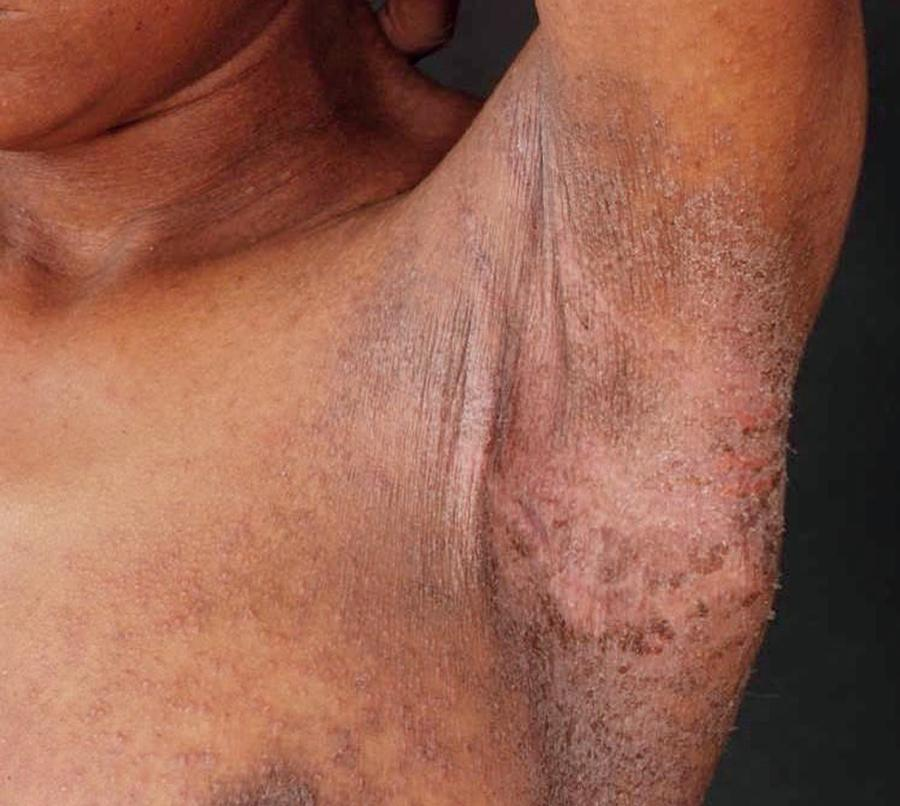Eczema: (499, 73, 765, 765)
